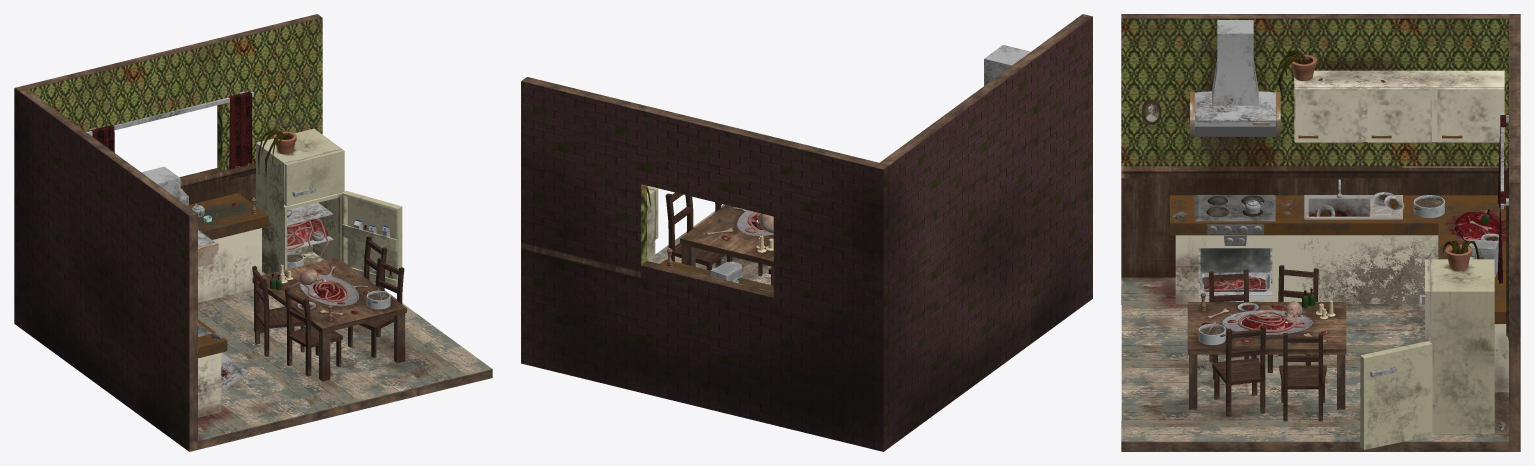
File: cannibals_kitchen_of_chaos (1).glb
3 renders of one model, left to right at view 1: azimuth 30°, elevation 25°; view 2: azimuth 150°, elevation 25°; view 3: azimuth 270°, elevation 25°, orthographic. The views are drawn at different scales.
Parts seen in each view (by area): view 1: Environment_1, props_0; view 2: Environment_1, props_0; view 3: Environment_1, props_0.
Part boxes in pixels (box(x1,y1,x2,y2)): Environment_1: box(14, 14, 492, 451); props_0: box(86, 91, 404, 381); Environment_1: box(521, 14, 1092, 451); props_0: box(647, 45, 1030, 284); Environment_1: box(1121, 14, 1520, 451); props_0: box(1142, 20, 1508, 449).
Bounding box in the file's own units: 4.72 × 3.33 × 4.47.
Materials: 2 (2 with a texture image).
